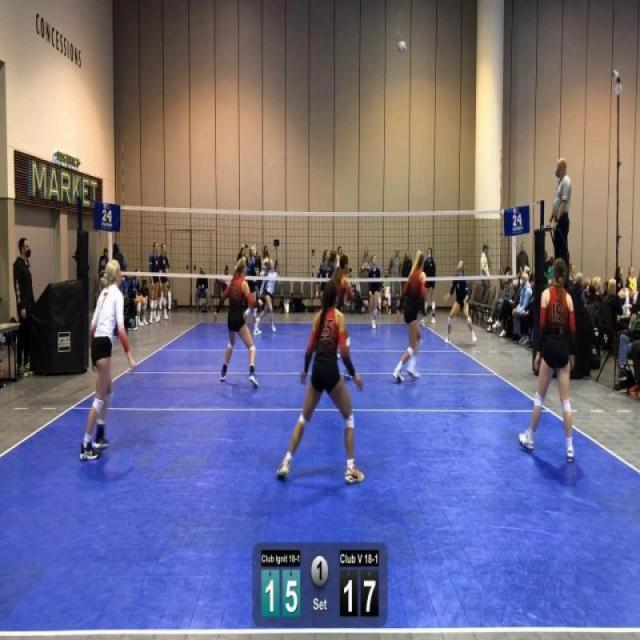volleyball: (397, 40, 408, 55)
